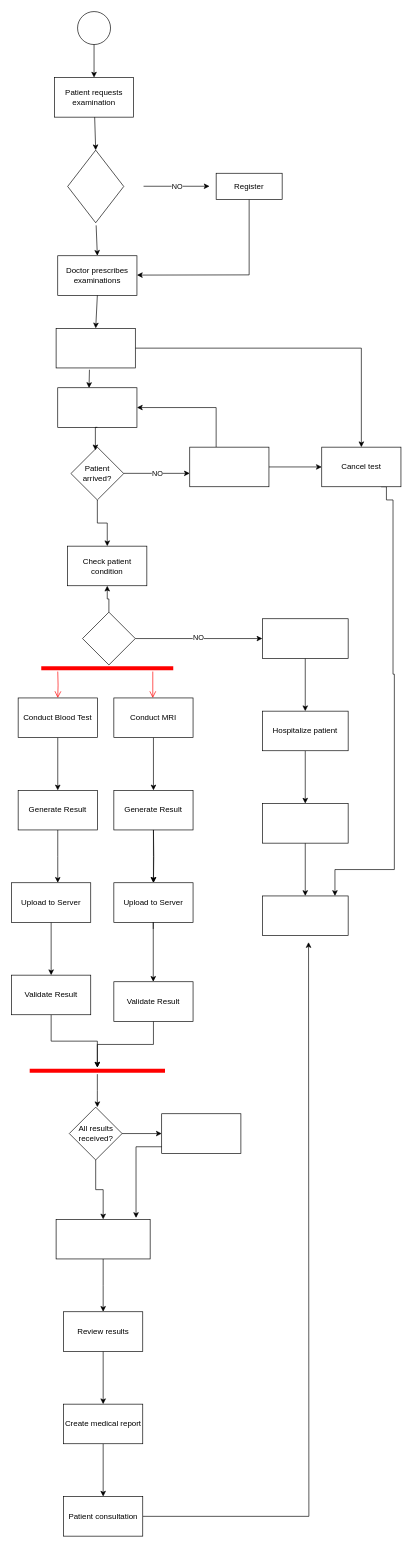
This 413x1548 diagram has some shape labels left out. The shapes that lost their labels are listed below. From the top down, each one's centre as x and y in pixels, then its label:
At (95,186): "Patient registered?".
At (95,348): "Patient schedules test".
At (97,407): "Appointment day arrives".
At (229,466): "Reschedule".
At (108,638): "Condition stable?".
At (305,638): "Call emergency team".
At (305,823): "Notify doctor".
At (305,915): "END".
At (201,1133): "Wait for remaining results".
At (102,1239): "Schedule consultation".
